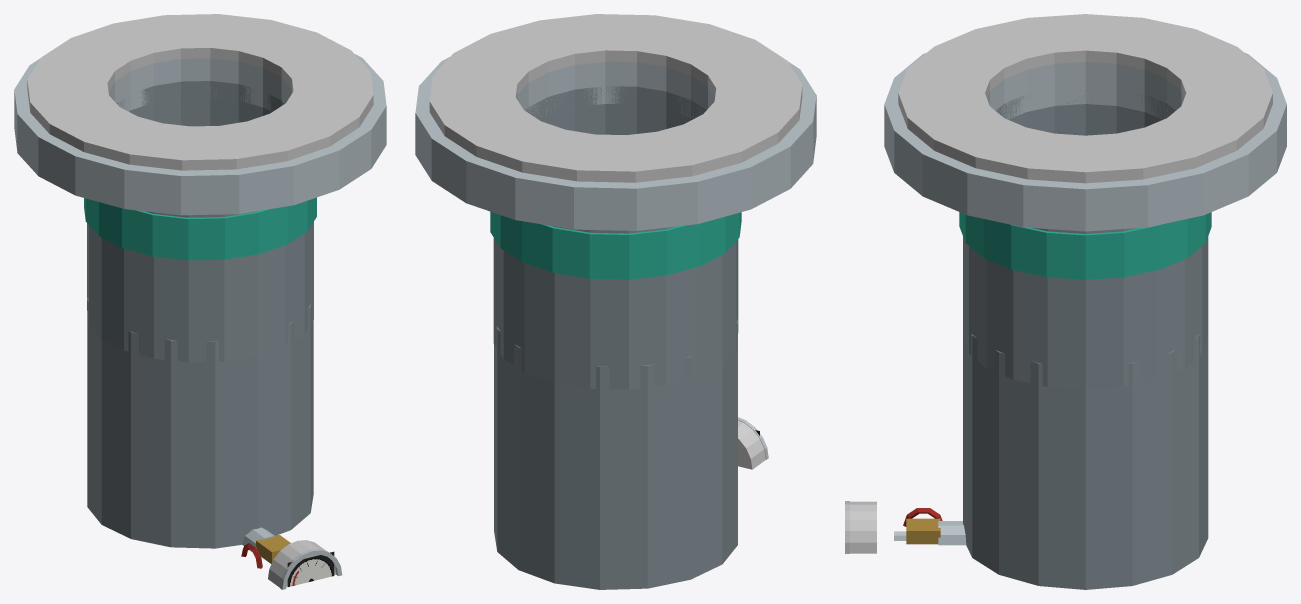
File: cell_50.obj
3 renders of one model, left to right at view 1: azimuth 30°, elevation 25°; view 2: azimuth 150°, elevation 25°; view 3: azimuth 270°, elevation 25°, orthographic. The views are drawn at different scales.
Size of the model in its own units: 0.82 by 1 by 0.9.
